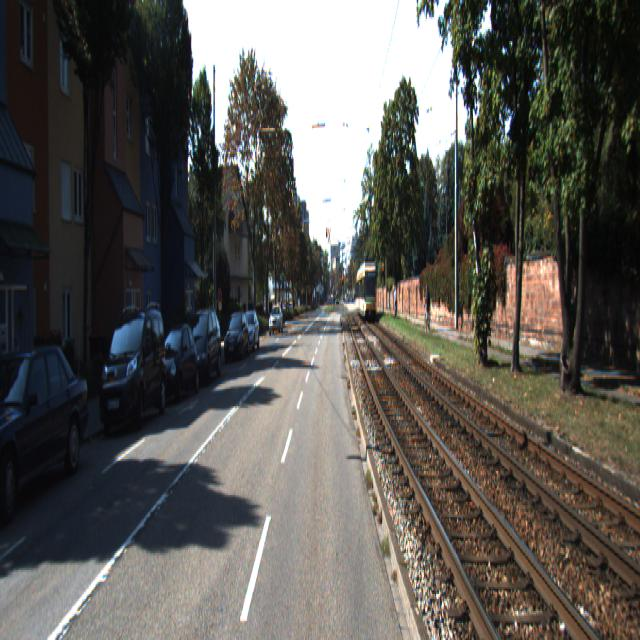Car: (0, 334, 92, 532), (97, 301, 168, 438), (152, 320, 200, 405), (181, 305, 222, 388), (223, 312, 250, 364), (356, 259, 377, 320), (238, 311, 260, 355)
